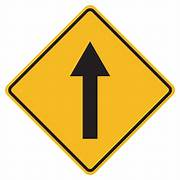forward: (8, 4, 175, 175)
